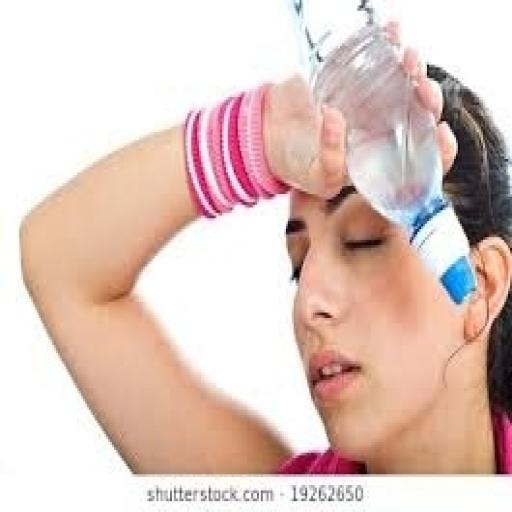drinking: (282, 0, 479, 307)
